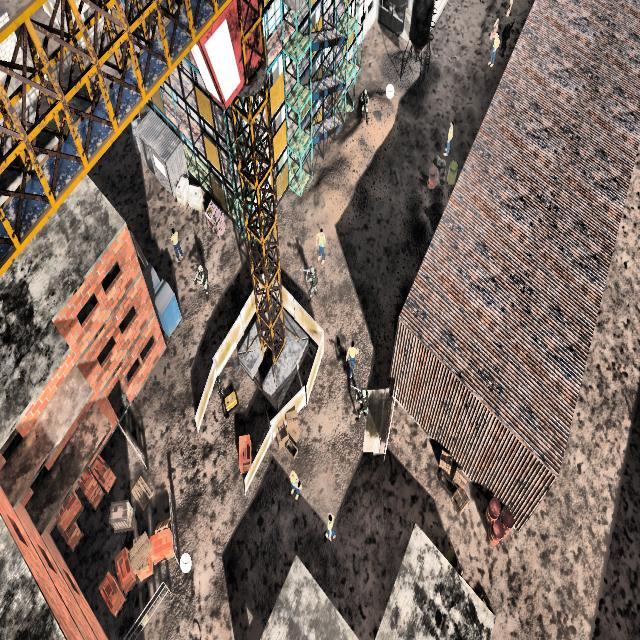bad: (192, 251, 213, 305), (352, 380, 372, 427), (304, 262, 320, 302), (360, 80, 372, 132), (500, 17, 512, 60)
good: (338, 332, 362, 381), (284, 453, 305, 509), (320, 506, 341, 550), (167, 219, 185, 268), (314, 221, 330, 272), (442, 112, 458, 161), (488, 28, 501, 71)
